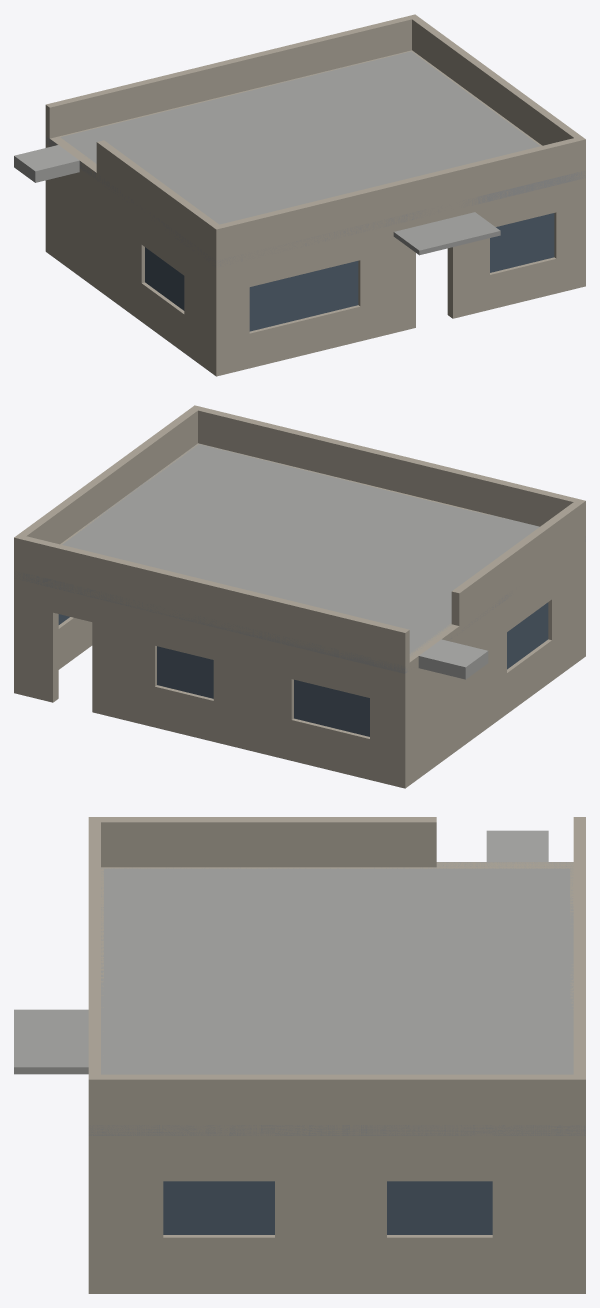
File: bungalow.lod1.glb
3 views of the same model, one above another, from view 1: azimuth 30°, elevation 25°; view 2: azimuth 150°, elevation 25°; view 3: azimuth 270°, elevation 25° (orthographic). The views are drawn at different scales.
Parts seen in each view (by area): view 1: bungalow; view 2: bungalow; view 3: bungalow.
Boxes of the visible parts, x1=… form: bungalow: x1=14, y1=14, x2=585, y2=376; bungalow: x1=14, y1=405, x2=585, y2=788; bungalow: x1=14, y1=817, x2=585, y2=1293.
Size of the model in its own units: 11.2 by 3.8 by 9.2.
